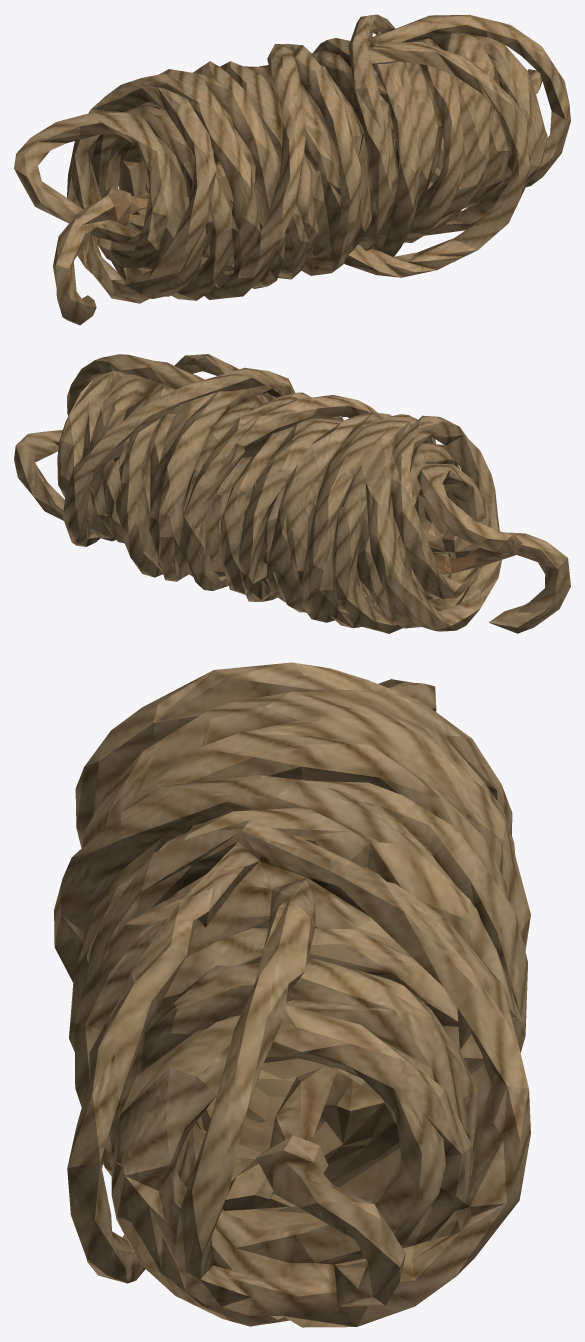
Rendered from rope.glb.
3 views of the same model, one above another, from view 1: azimuth 30°, elevation 25°; view 2: azimuth 150°, elevation 25°; view 3: azimuth 270°, elevation 25° (orthographic). The views are drawn at different scales.
Bounding box in the file's own units: 1.89 × 0.7456 × 0.7723.
1 material, 1 textured.
